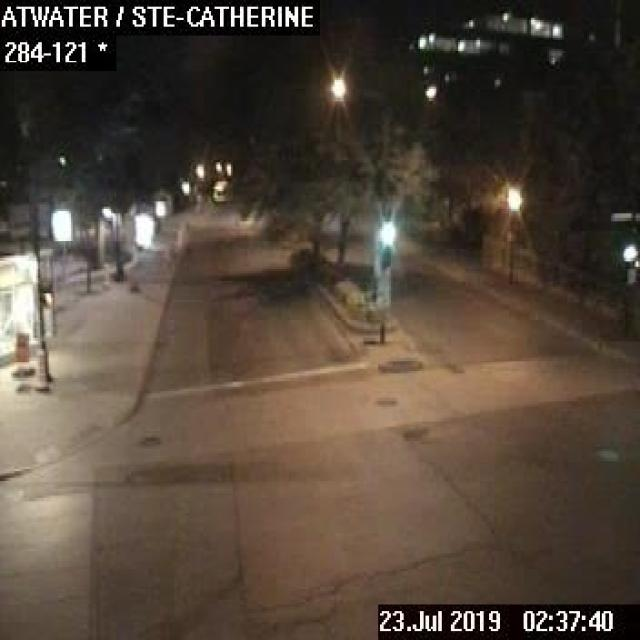vehicle: (212, 178, 230, 202)
